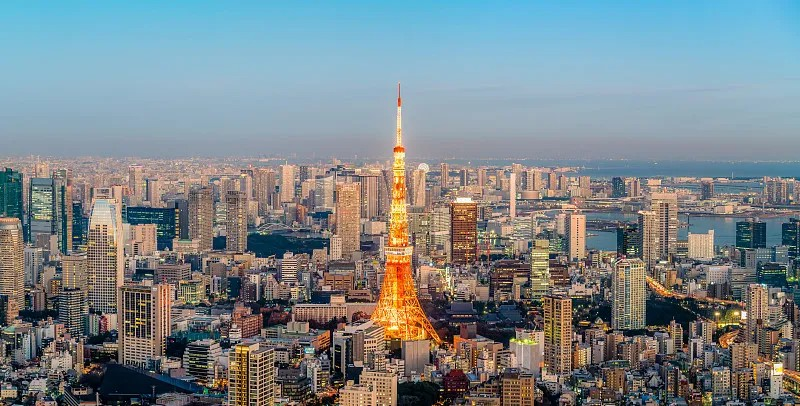Tokyo: (367, 81, 444, 346)
